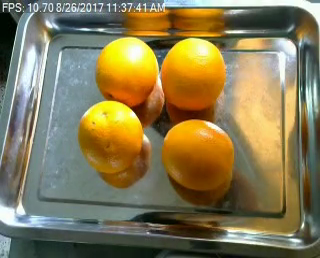Orange: (163, 118, 234, 190), (79, 100, 144, 174), (161, 39, 226, 110), (96, 37, 158, 107)
